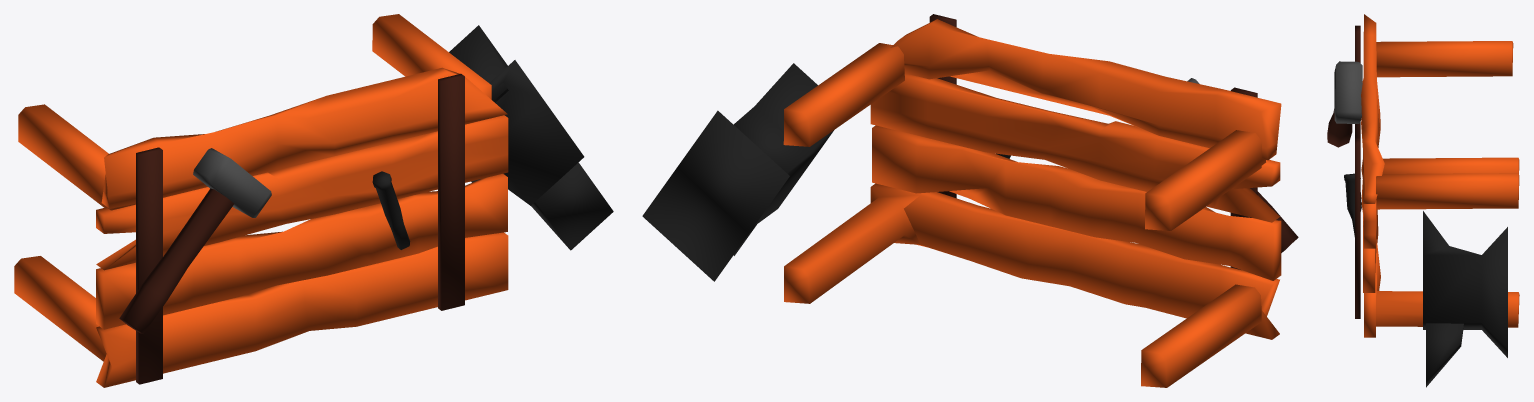
The model's file is source_Crafting Table.fbx.
The picture shows the model from 3 angles, left to right: view 1: azimuth 30°, elevation 25°; view 2: azimuth 150°, elevation 25°; view 3: azimuth 270°, elevation 25°; orthographic projection. The views are drawn at different scales.
Parts seen in each view (by area): view 1: Cube, Plane, Cube.002, Cube.001, Cube.003, Cube.004, Cylinder; view 2: Cube, Cube.002, Plane; view 3: Cube, Cube.002, Cube.004, Cube.003, Plane, Cube.001, Cylinder.
Boxes of the visible parts, x1,y1,x2,y2 form: Cube: (14,14,508,387); Plane: (136,73,464,384); Cube.002: (449,25,584,205); Cube.001: (119,188,233,333); Cube.003: (531,162,613,250); Cube.004: (193,148,271,217); Cylinder: (372,171,410,249); Cube: (783,19,1281,387); Cube.002: (642,63,833,281); Plane: (929,14,1257,269); Cube: (1361,14,1519,337); Cube.002: (1423,211,1507,357); Cube.004: (1334,61,1362,123); Cube.003: (1426,323,1463,387); Plane: (1355,25,1360,318); Cube.001: (1327,109,1352,147); Cylinder: (1344,173,1361,236).
Size of the model in its own units: 7.84 by 3.36 by 3.13.
